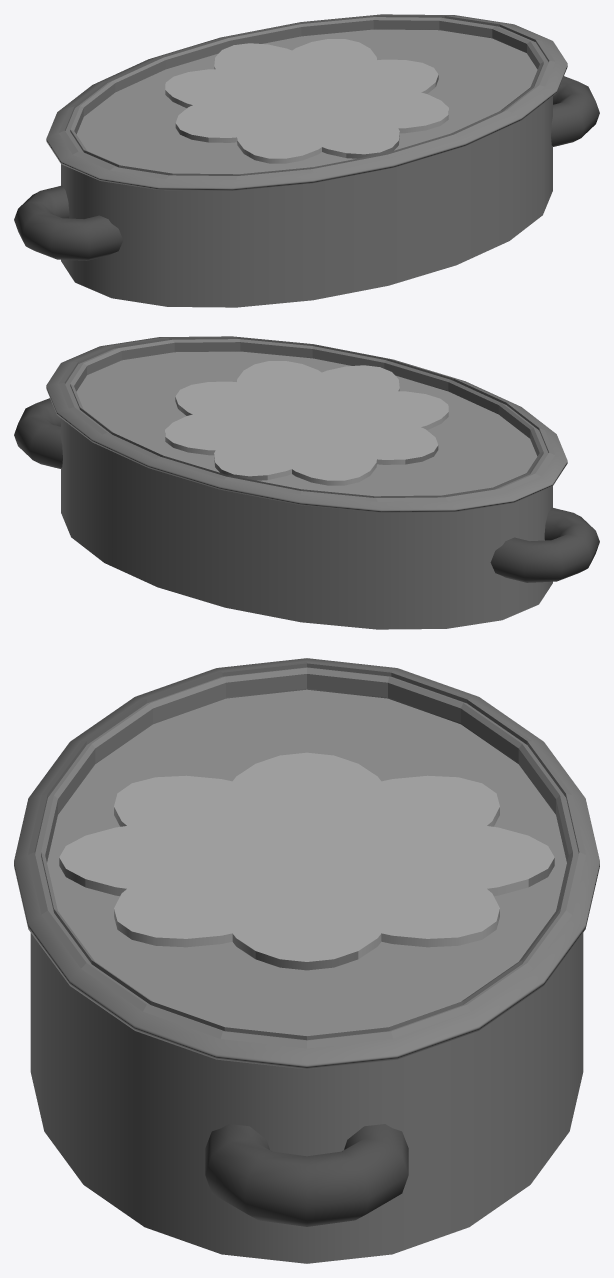
File: PieModel.fbx
3 renders of one model, top to bottom at view 1: azimuth 30°, elevation 25°; view 2: azimuth 150°, elevation 25°; view 3: azimuth 270°, elevation 25°, orthographic. The views are drawn at different scales.
Visible parts, largest first — view 1: PieModel; view 2: PieModel; view 3: PieModel.
Part boxes in pixels (x1,y1,x2,y2): PieModel: [14, 14, 599, 307]; PieModel: [14, 336, 599, 629]; PieModel: [14, 658, 599, 1263].
Size of the model in its own units: 110 by 24.09 by 58.08.
